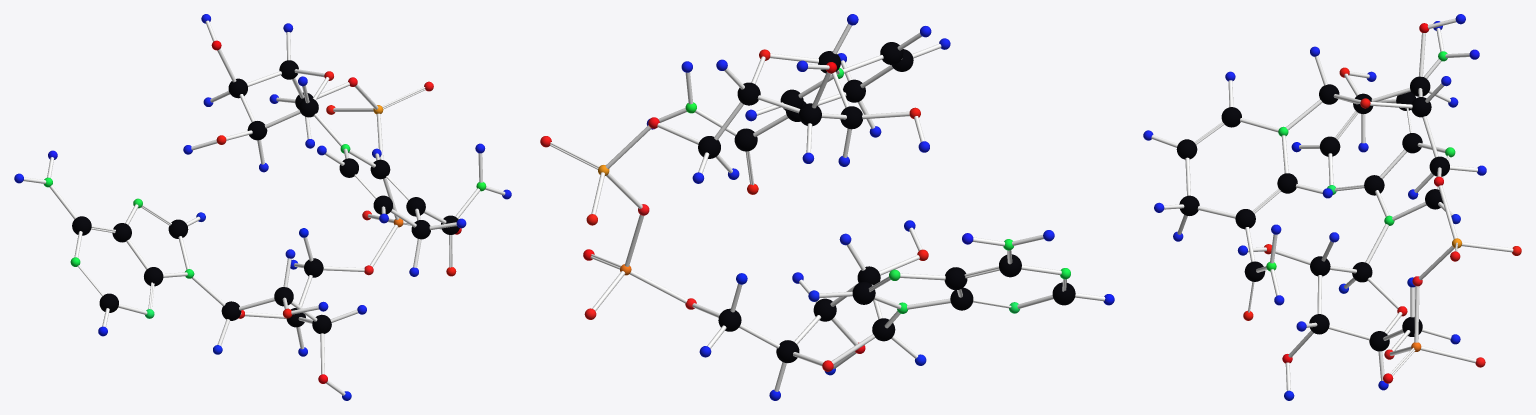
File: NADH.fbx
The picture shows the model from 3 angles, left to right: view 1: azimuth 30°, elevation 25°; view 2: azimuth 150°, elevation 25°; view 3: azimuth 270°, elevation 25°; orthographic projection. The views are drawn at different scales.
Visible parts, largest first — view 1: no part large enough to name; view 2: no part large enough to name; view 3: Atom6_Clone__17, Atom6_Clone__11, Atom6_Clone__13, Atom6_Clone__15.
Part boxes in pixels (box(x1,y1,x2,y2)): Atom6_Clone__17: box(1176, 139, 1197, 159); Atom6_Clone__11: box(1277, 173, 1297, 193); Atom6_Clone__13: box(1221, 107, 1241, 127); Atom6_Clone__15: box(1235, 209, 1255, 229).
Bounding box in the file's own units: 1255 × 957 × 921.
